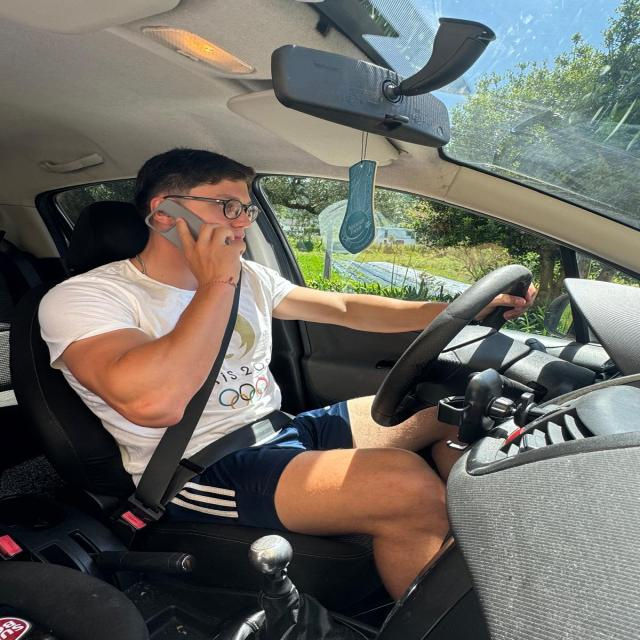Phone: (144, 198, 232, 264)
Seatbelt: (130, 235, 332, 533)
